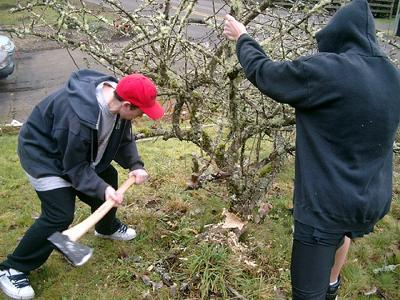person: (1, 67, 165, 300)
